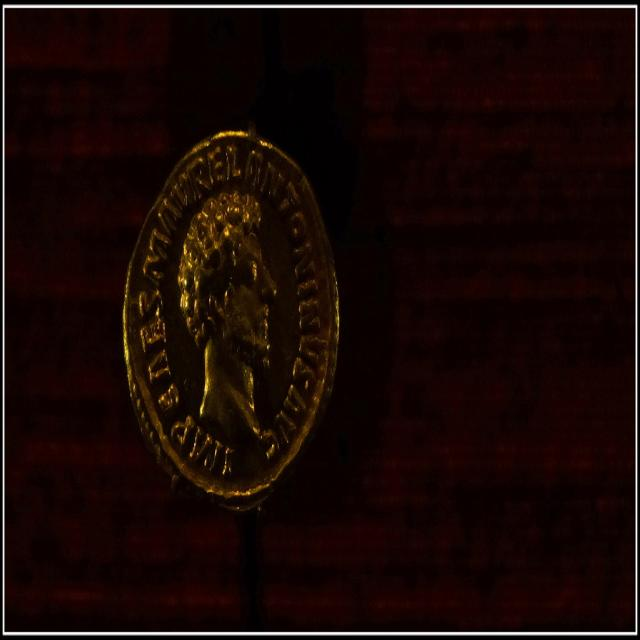Coin: (120, 121, 342, 512)
